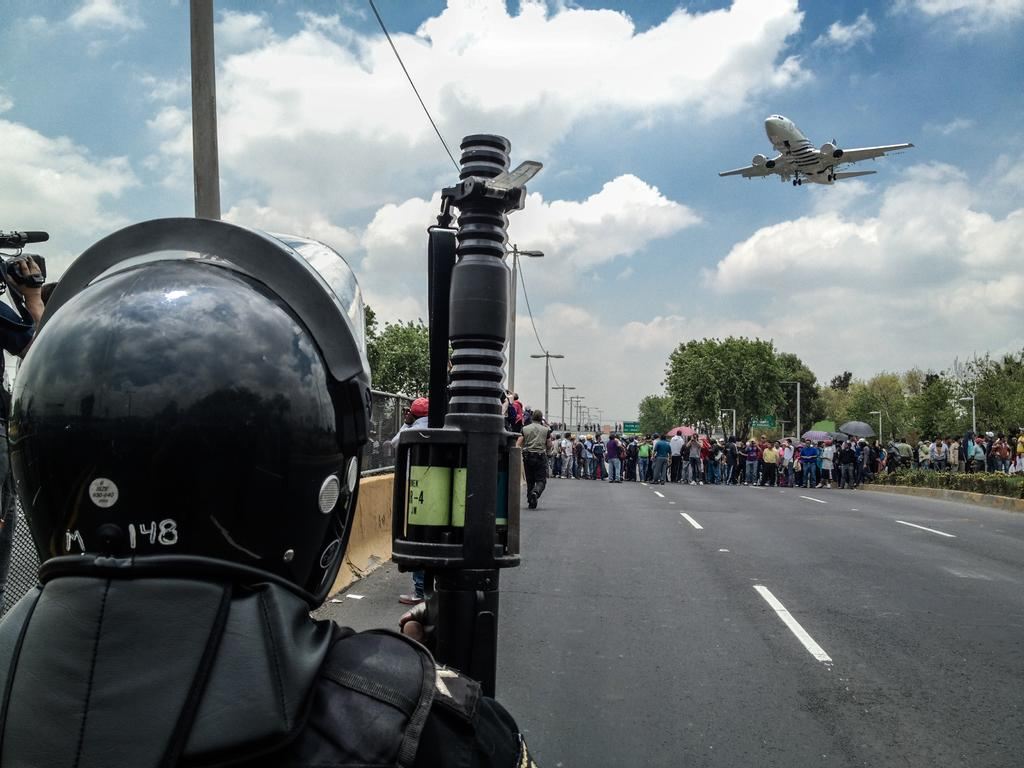helmet: (6, 217, 374, 611)
nohelmet: (531, 409, 543, 426), (975, 437, 985, 447), (858, 437, 866, 448), (823, 439, 832, 448), (844, 440, 852, 450), (986, 431, 994, 441), (692, 432, 699, 443), (935, 435, 942, 446), (954, 435, 962, 444), (999, 434, 1007, 443), (767, 440, 774, 450), (785, 438, 792, 448), (945, 435, 952, 445), (578, 435, 586, 443), (586, 434, 594, 442), (565, 432, 572, 441), (660, 433, 667, 442), (774, 440, 781, 449), (761, 434, 767, 444), (608, 433, 615, 441), (900, 437, 907, 445), (805, 439, 811, 448), (596, 433, 602, 441), (676, 430, 682, 437)
